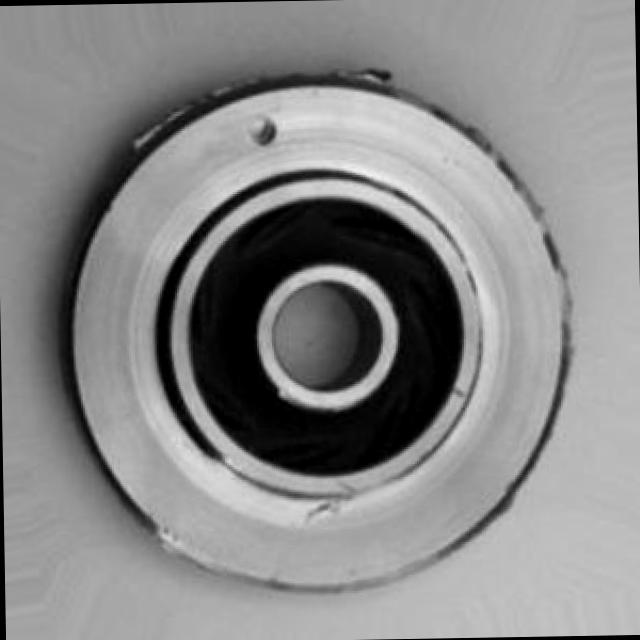Defect: (247, 114, 278, 144)
